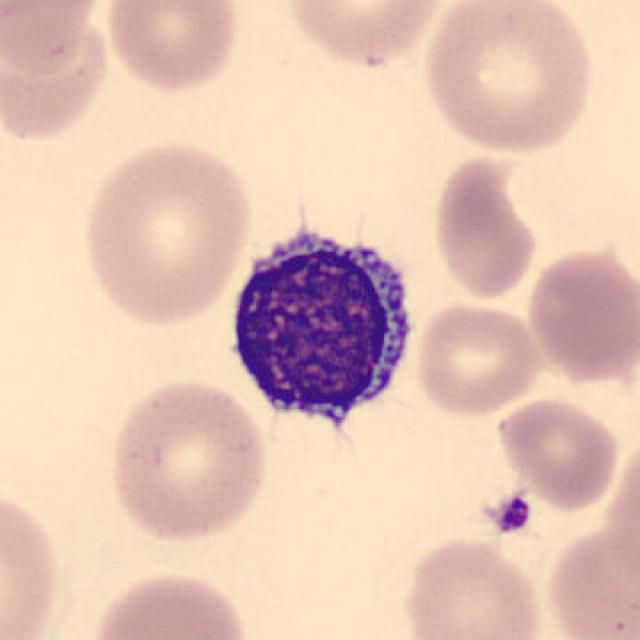Lymphocyte: (213, 210, 423, 446)
Platelets: (491, 492, 535, 536)
RBC: (76, 134, 258, 330), (103, 376, 274, 546), (416, 0, 599, 157), (428, 148, 542, 303), (521, 242, 638, 386), (0, 3, 116, 146), (410, 298, 546, 418), (397, 534, 548, 640), (494, 395, 622, 511), (100, 0, 246, 95), (84, 566, 256, 640), (540, 520, 640, 638), (281, 0, 451, 69), (0, 483, 68, 640), (0, 0, 103, 78)
